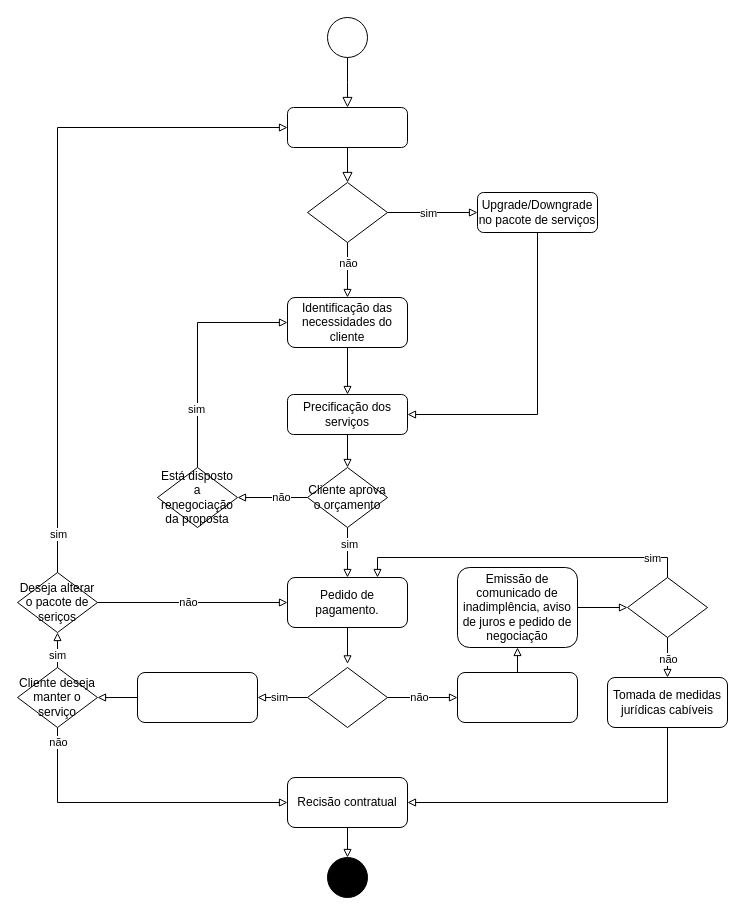
Image size: 745x915. Some labels were removed from this diagram. The shapes that lost their labels are listed below. From the top down, each one's centre as x and y in pixels, then its label:
[347,127]: Consolidação de venda de serviços
[347,212]: Já é cliente
[667,607]: Cliente aceitou o acordo e quitou a dívida
[197,697]: Conclusão do prazo de prestação do serviço pago
[347,697]: Cliente pagou
[517,697]: Suspensão imediata do fornecimento do serviço
